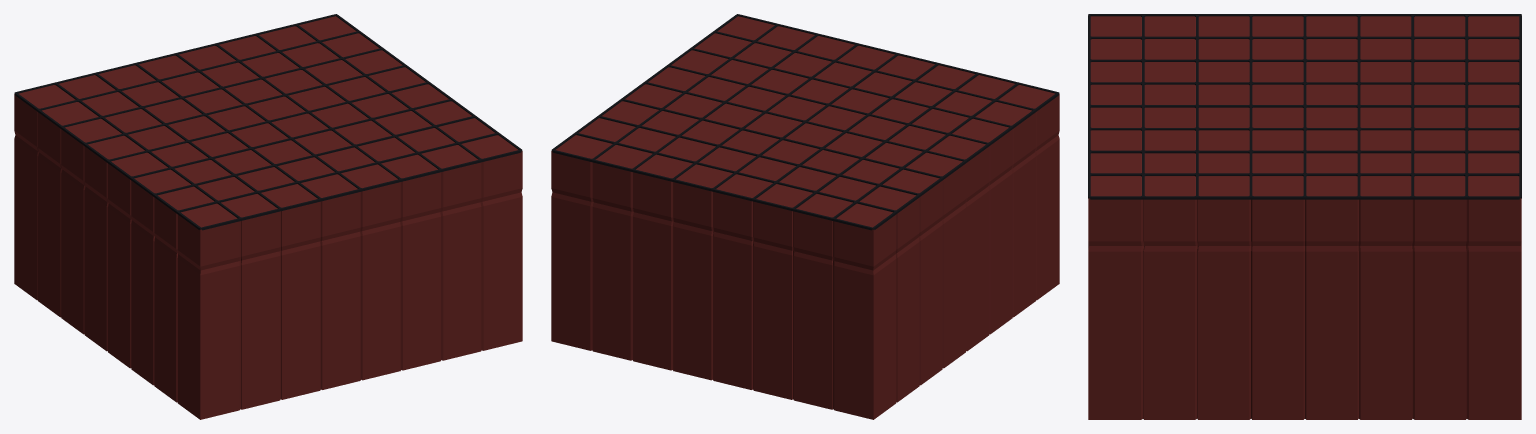
The model's file is CatBoxMockUp.fbx.
3 renders of one model, left to right at view 1: azimuth 30°, elevation 25°; view 2: azimuth 150°, elevation 25°; view 3: azimuth 270°, elevation 25°, orthographic. The views are drawn at different scales.
Parts seen in each view (by area): view 1: Plane; view 2: Plane; view 3: Plane.
Part boxes in pixels (x1,y1,x2,y2): Plane: (14, 14, 522, 419); Plane: (551, 14, 1059, 419); Plane: (1088, 14, 1521, 419).
Bounding box in the file's own units: 819 × 464 × 819.
